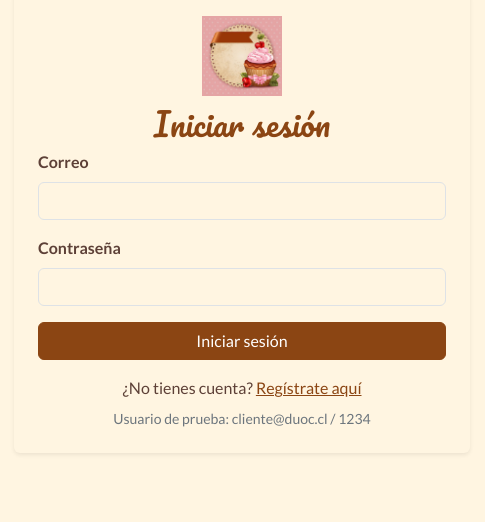
Scenario: <Login /> › al enviar vacío muestra dos errores y NO inicia sesión
Click the button "Iniciar sesión": (242, 341) [38, 322, 446, 360]
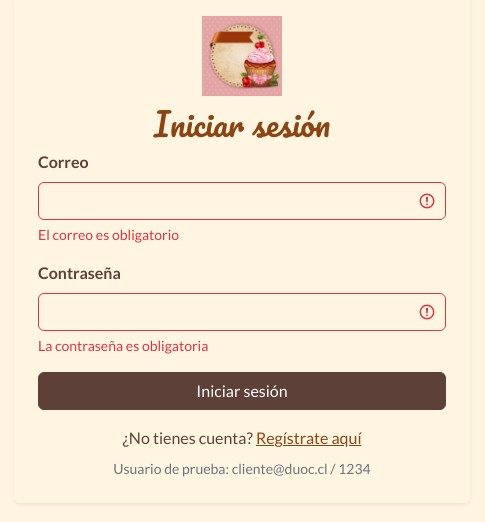
Expected: the number of messages is 2, [38, 226, 179, 243]; [38, 337, 208, 354]
